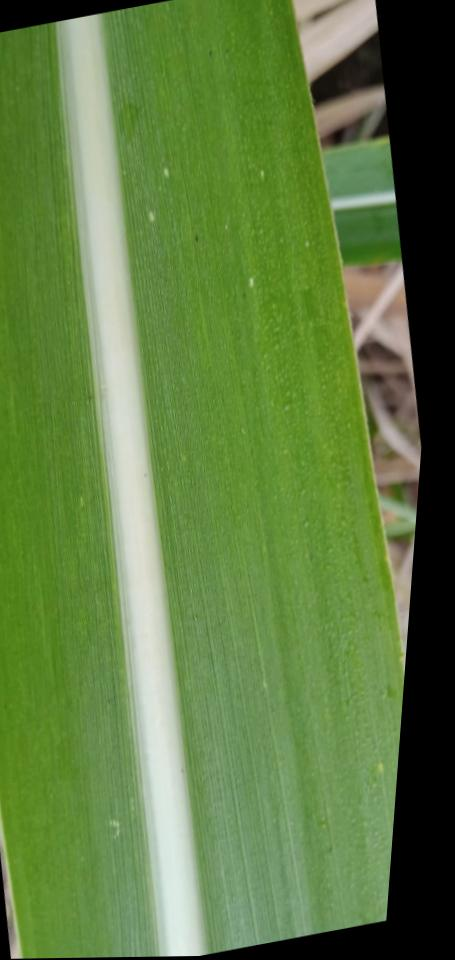Healthy: (0, 0, 405, 959), (318, 140, 401, 266)
